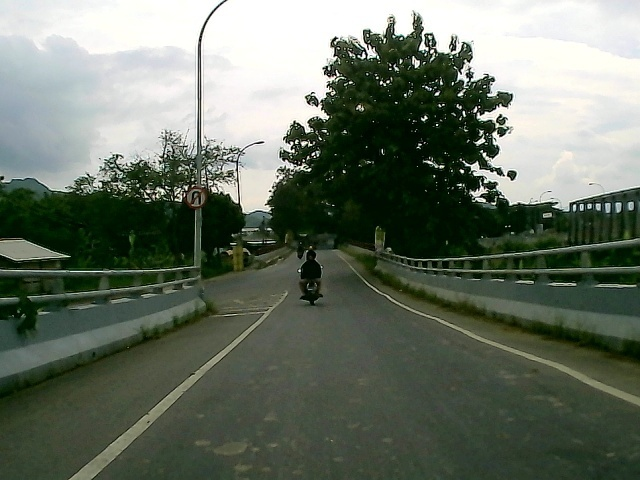Dilarang berbalik arah: (184, 185, 208, 210)
